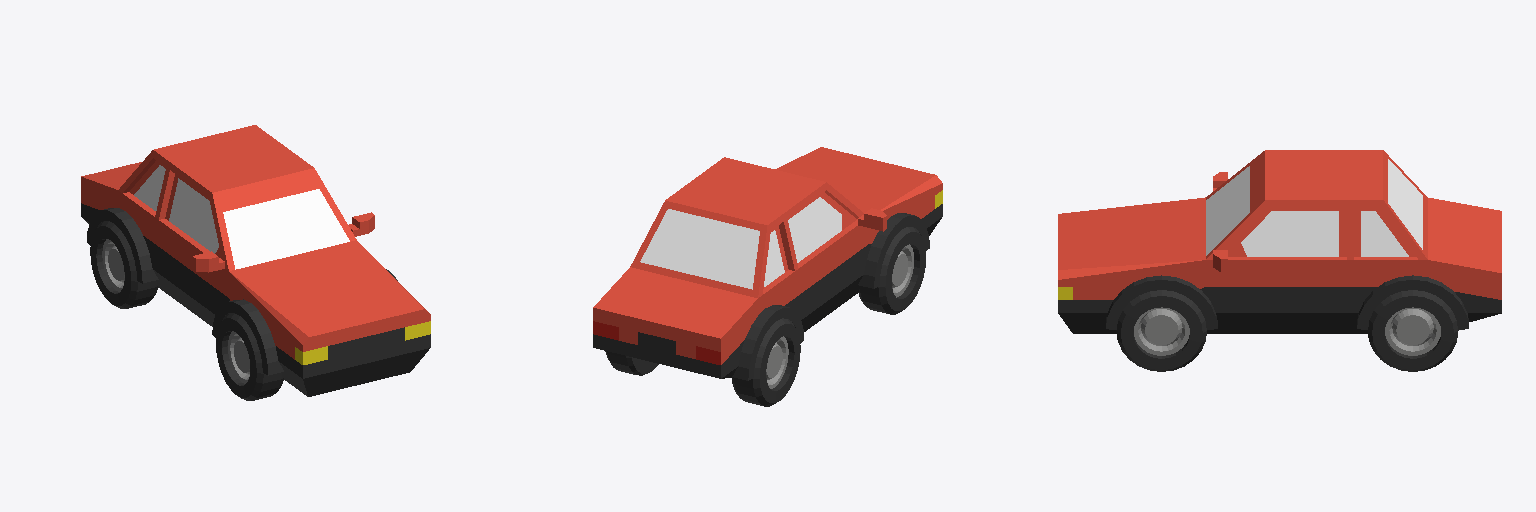
The model's file is car_long_red.obj.
The picture shows the model from 3 angles: view 1: azimuth 30°, elevation 25°; view 2: azimuth 150°, elevation 25°; view 3: azimuth 270°, elevation 25°; orthographic projection.
Parts seen in each view (by area): view 1: mergedBlocks; view 2: mergedBlocks; view 3: mergedBlocks.
Boxes of the visible parts, box(x1,y1,x2,y2) form: mergedBlocks: box(81, 125, 430, 400); mergedBlocks: box(593, 147, 942, 406); mergedBlocks: box(1058, 150, 1501, 371).
Size of the model in its own units: 1.4 by 1.21 by 3.